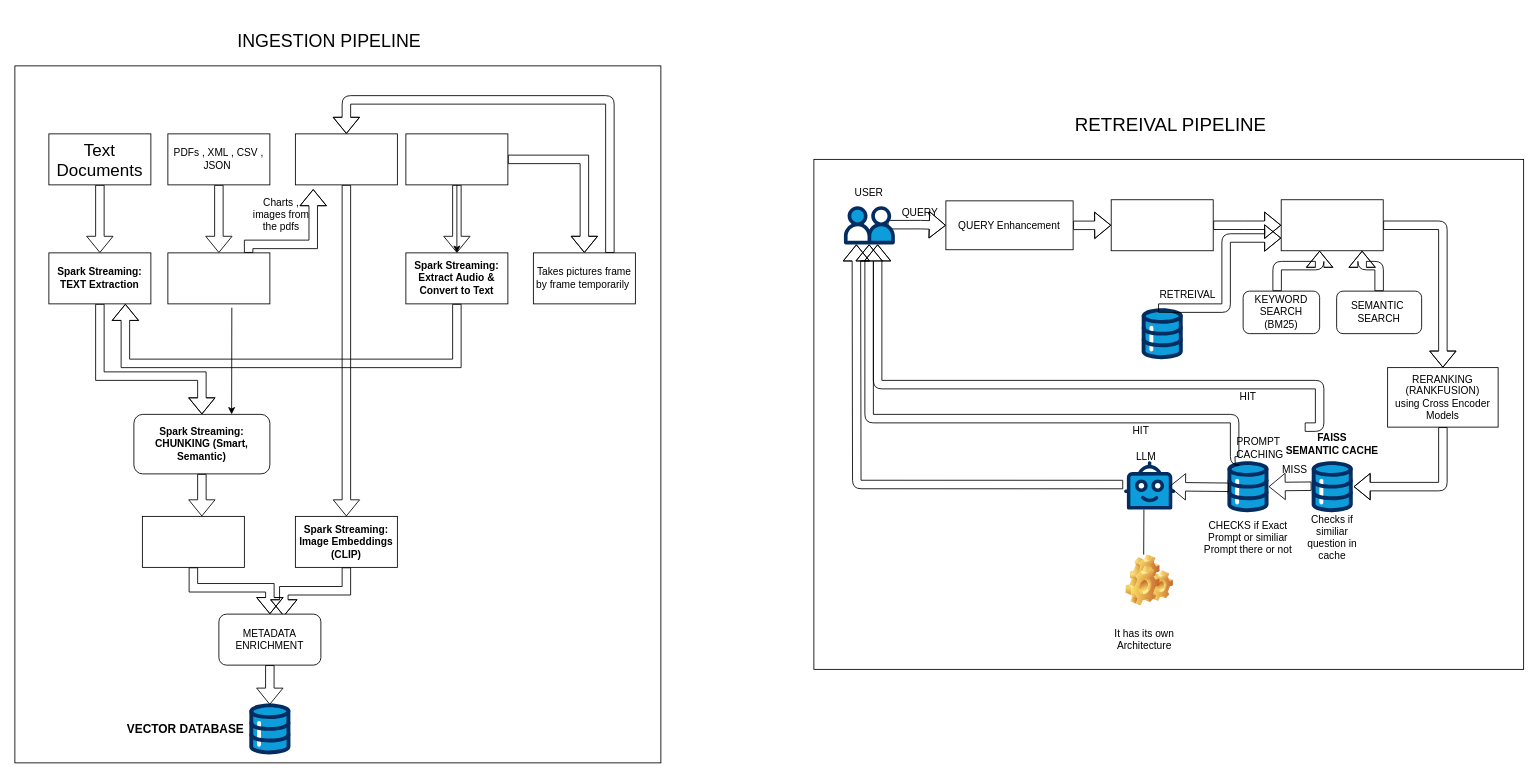
Some shapes in this 1539 by 778 pixel diagram are drawn without their labels. The shapes that lost their labels are listed below. From the top down, each one's centre as x and y in pixels, then its label:
pixel 346 159: PICTURES
pixel 456 159: VIDEO
pixel 1161 225: METADATA FILTERING
pixel 1331 225: ELASTICSEARCH HYBRID SEARCH
pixel 218 278: for PDFs Separating images , charts, tables & for others, Just text extraction
pixel 193 541: Spark Streaming: Text Embeddings (OpenAI)
